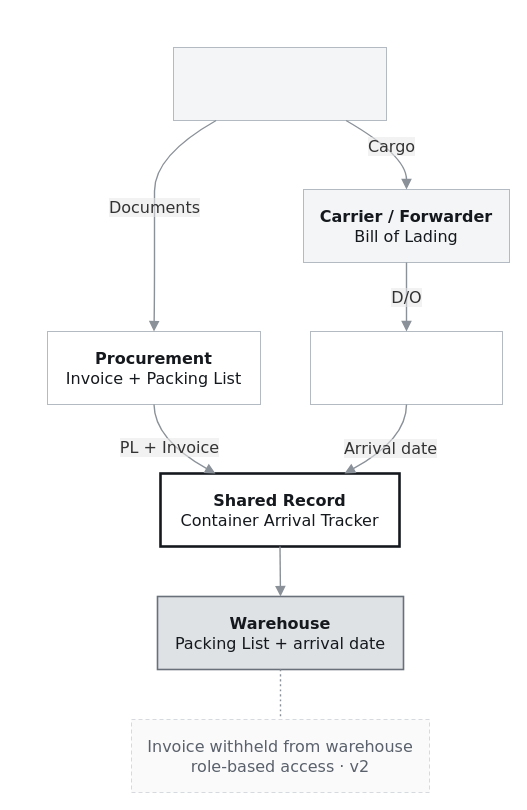
This 527x810 diagram has some shape labels left out. Each missing label, with the box of its shape:
Customs Broker Invoice + PL + D/O: (310, 330, 502, 404)
Supplier Invoice + Packing List: (172, 46, 386, 120)
